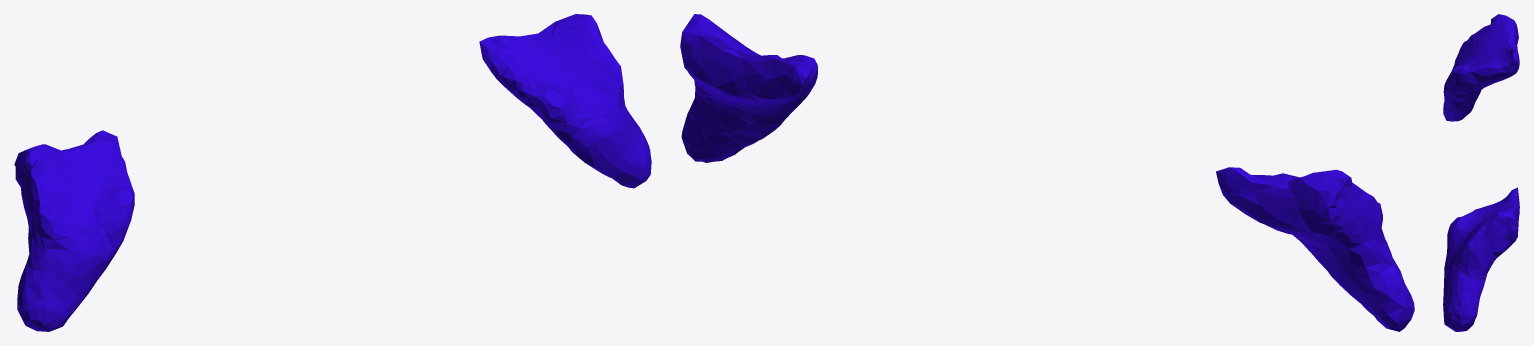
File: 36-44-area 44 of cortex-('0.2275', '0.0000', '1.0000').obj
3 renders of one model, left to right at view 1: azimuth 30°, elevation 25°; view 2: azimuth 150°, elevation 25°; view 3: azimuth 270°, elevation 25°, orthographic. The views are drawn at different scales.
Size of the model in its own units: 284 by 66.5 by 41.24.
